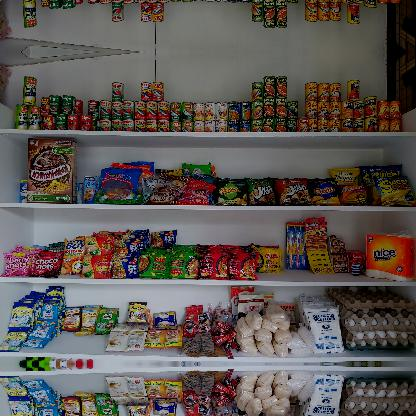Koko-Krunch: (27, 137, 77, 203)
